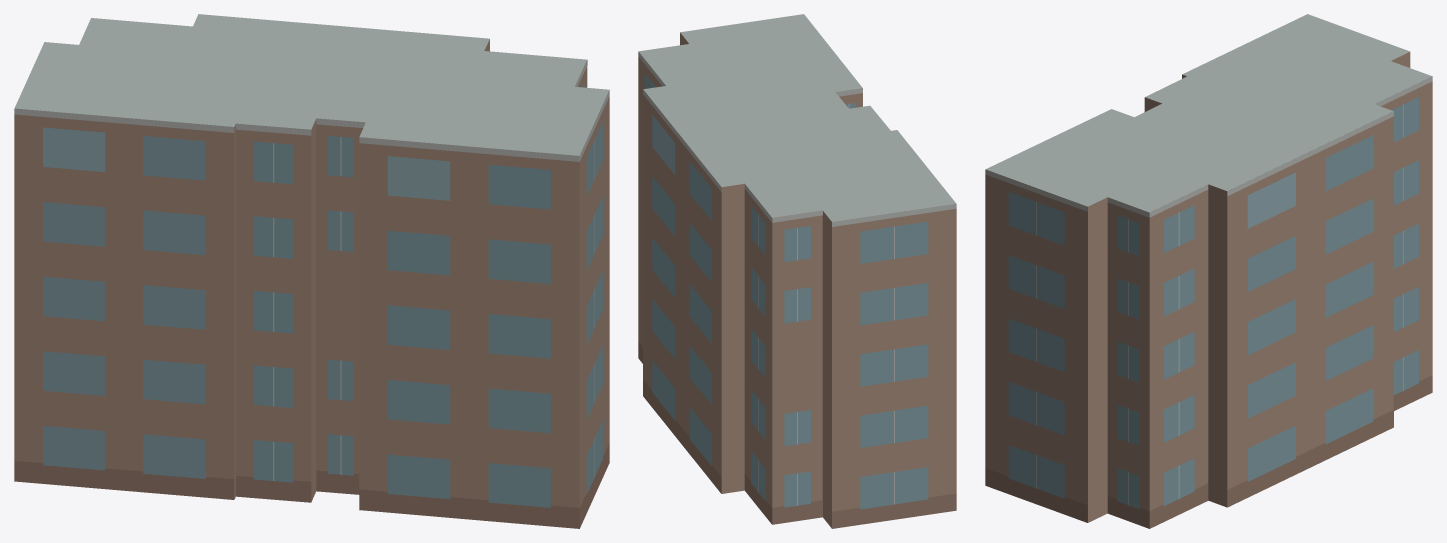
The model's file is survey-upis-32977178.glb.
The picture shows the model from 3 angles, left to right: view 1: azimuth 30°, elevation 25°; view 2: azimuth 150°, elevation 25°; view 3: azimuth 270°, elevation 25°; orthographic projection. The views are drawn at different scales.
Visible parts, largest first — view 1: survey-upis-32977178.tmp; view 2: survey-upis-32977178.tmp; view 3: survey-upis-32977178.tmp.
Boxes of the visible parts, <box> form: survey-upis-32977178.tmp: <box>14,14,609,528</box>; survey-upis-32977178.tmp: <box>638,14,956,528</box>; survey-upis-32977178.tmp: <box>985,14,1432,528</box>.
Bounding box in the file's own units: 20.34 × 15.1 × 19.35.
